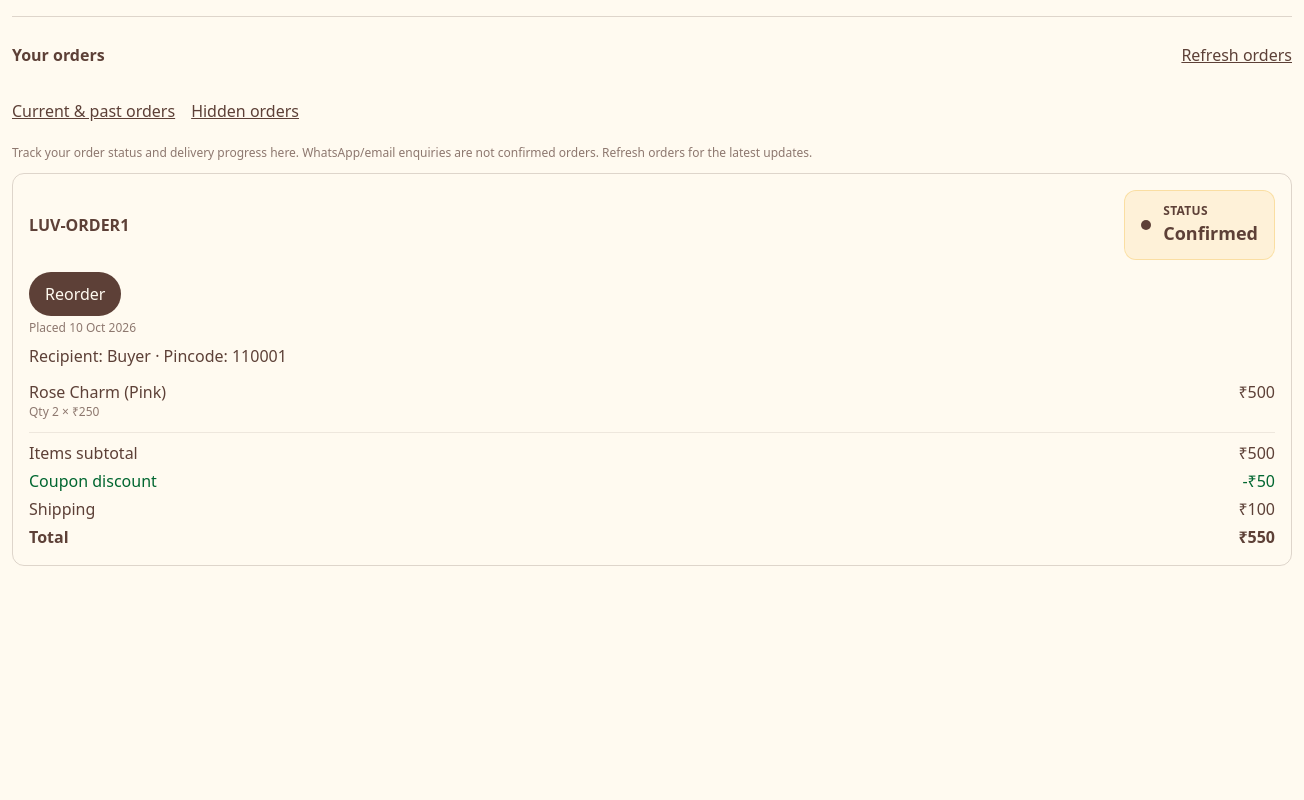
Test case: reports reorder failure without claiming products were added
What coordinates should you click on to do the following:
click the button with aria-label "Reorder LUV-ORDER1"
I would click on:
 (75, 294)
Its box is [29, 272, 121, 316].
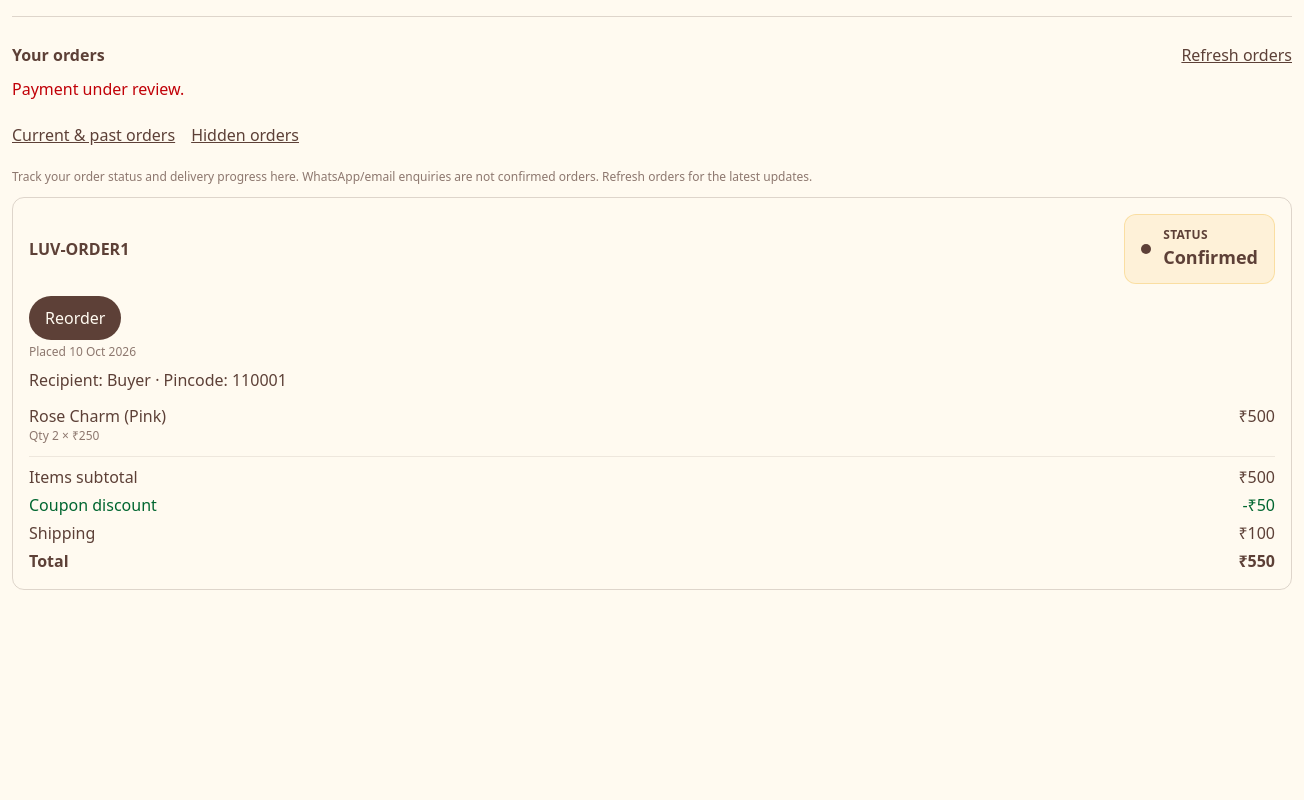
Now the message reads "Payment under review.", box [12, 78, 184, 100]
